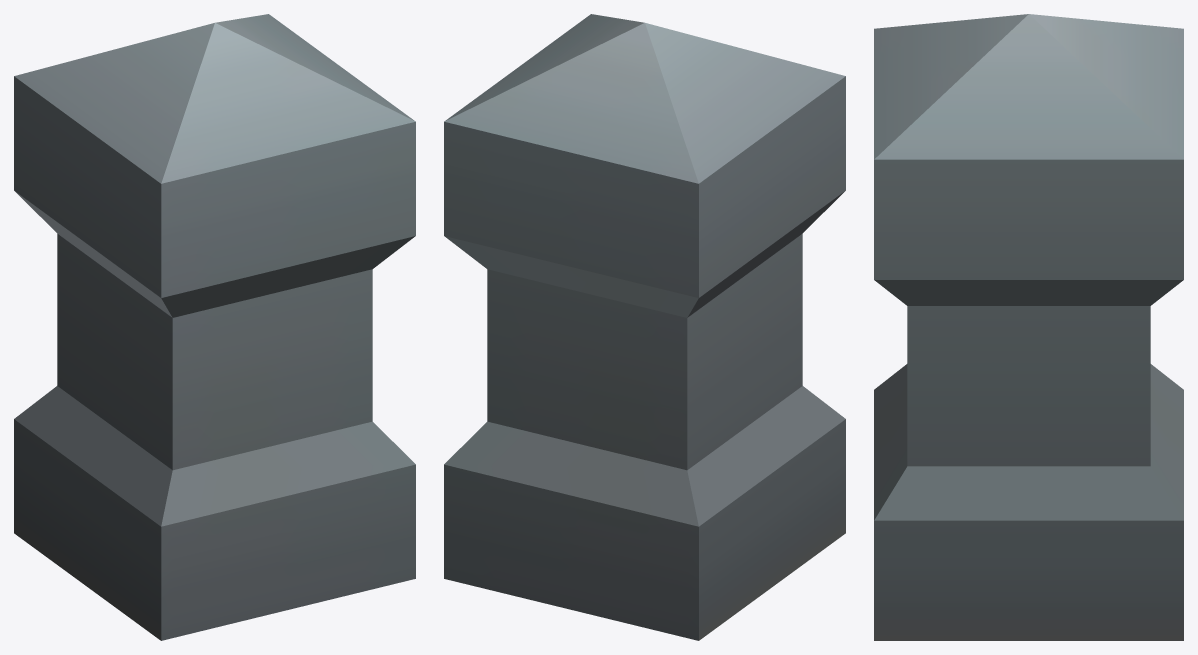
Rendered from d_column.glb.
3 renders of one model, left to right at view 1: azimuth 30°, elevation 25°; view 2: azimuth 150°, elevation 25°; view 3: azimuth 270°, elevation 25°, orthographic. The views are drawn at different scales.
Parts seen in each view (by area): view 1: column; view 2: column; view 3: column.
Part boxes in pixels (<box>): column: <box>14,14,415,640</box>; column: <box>444,14,845,640</box>; column: <box>874,14,1183,640</box>.
Size of the model in its own units: 0.7001 by 1.4 by 0.7001.
1 material, 1 textured.
